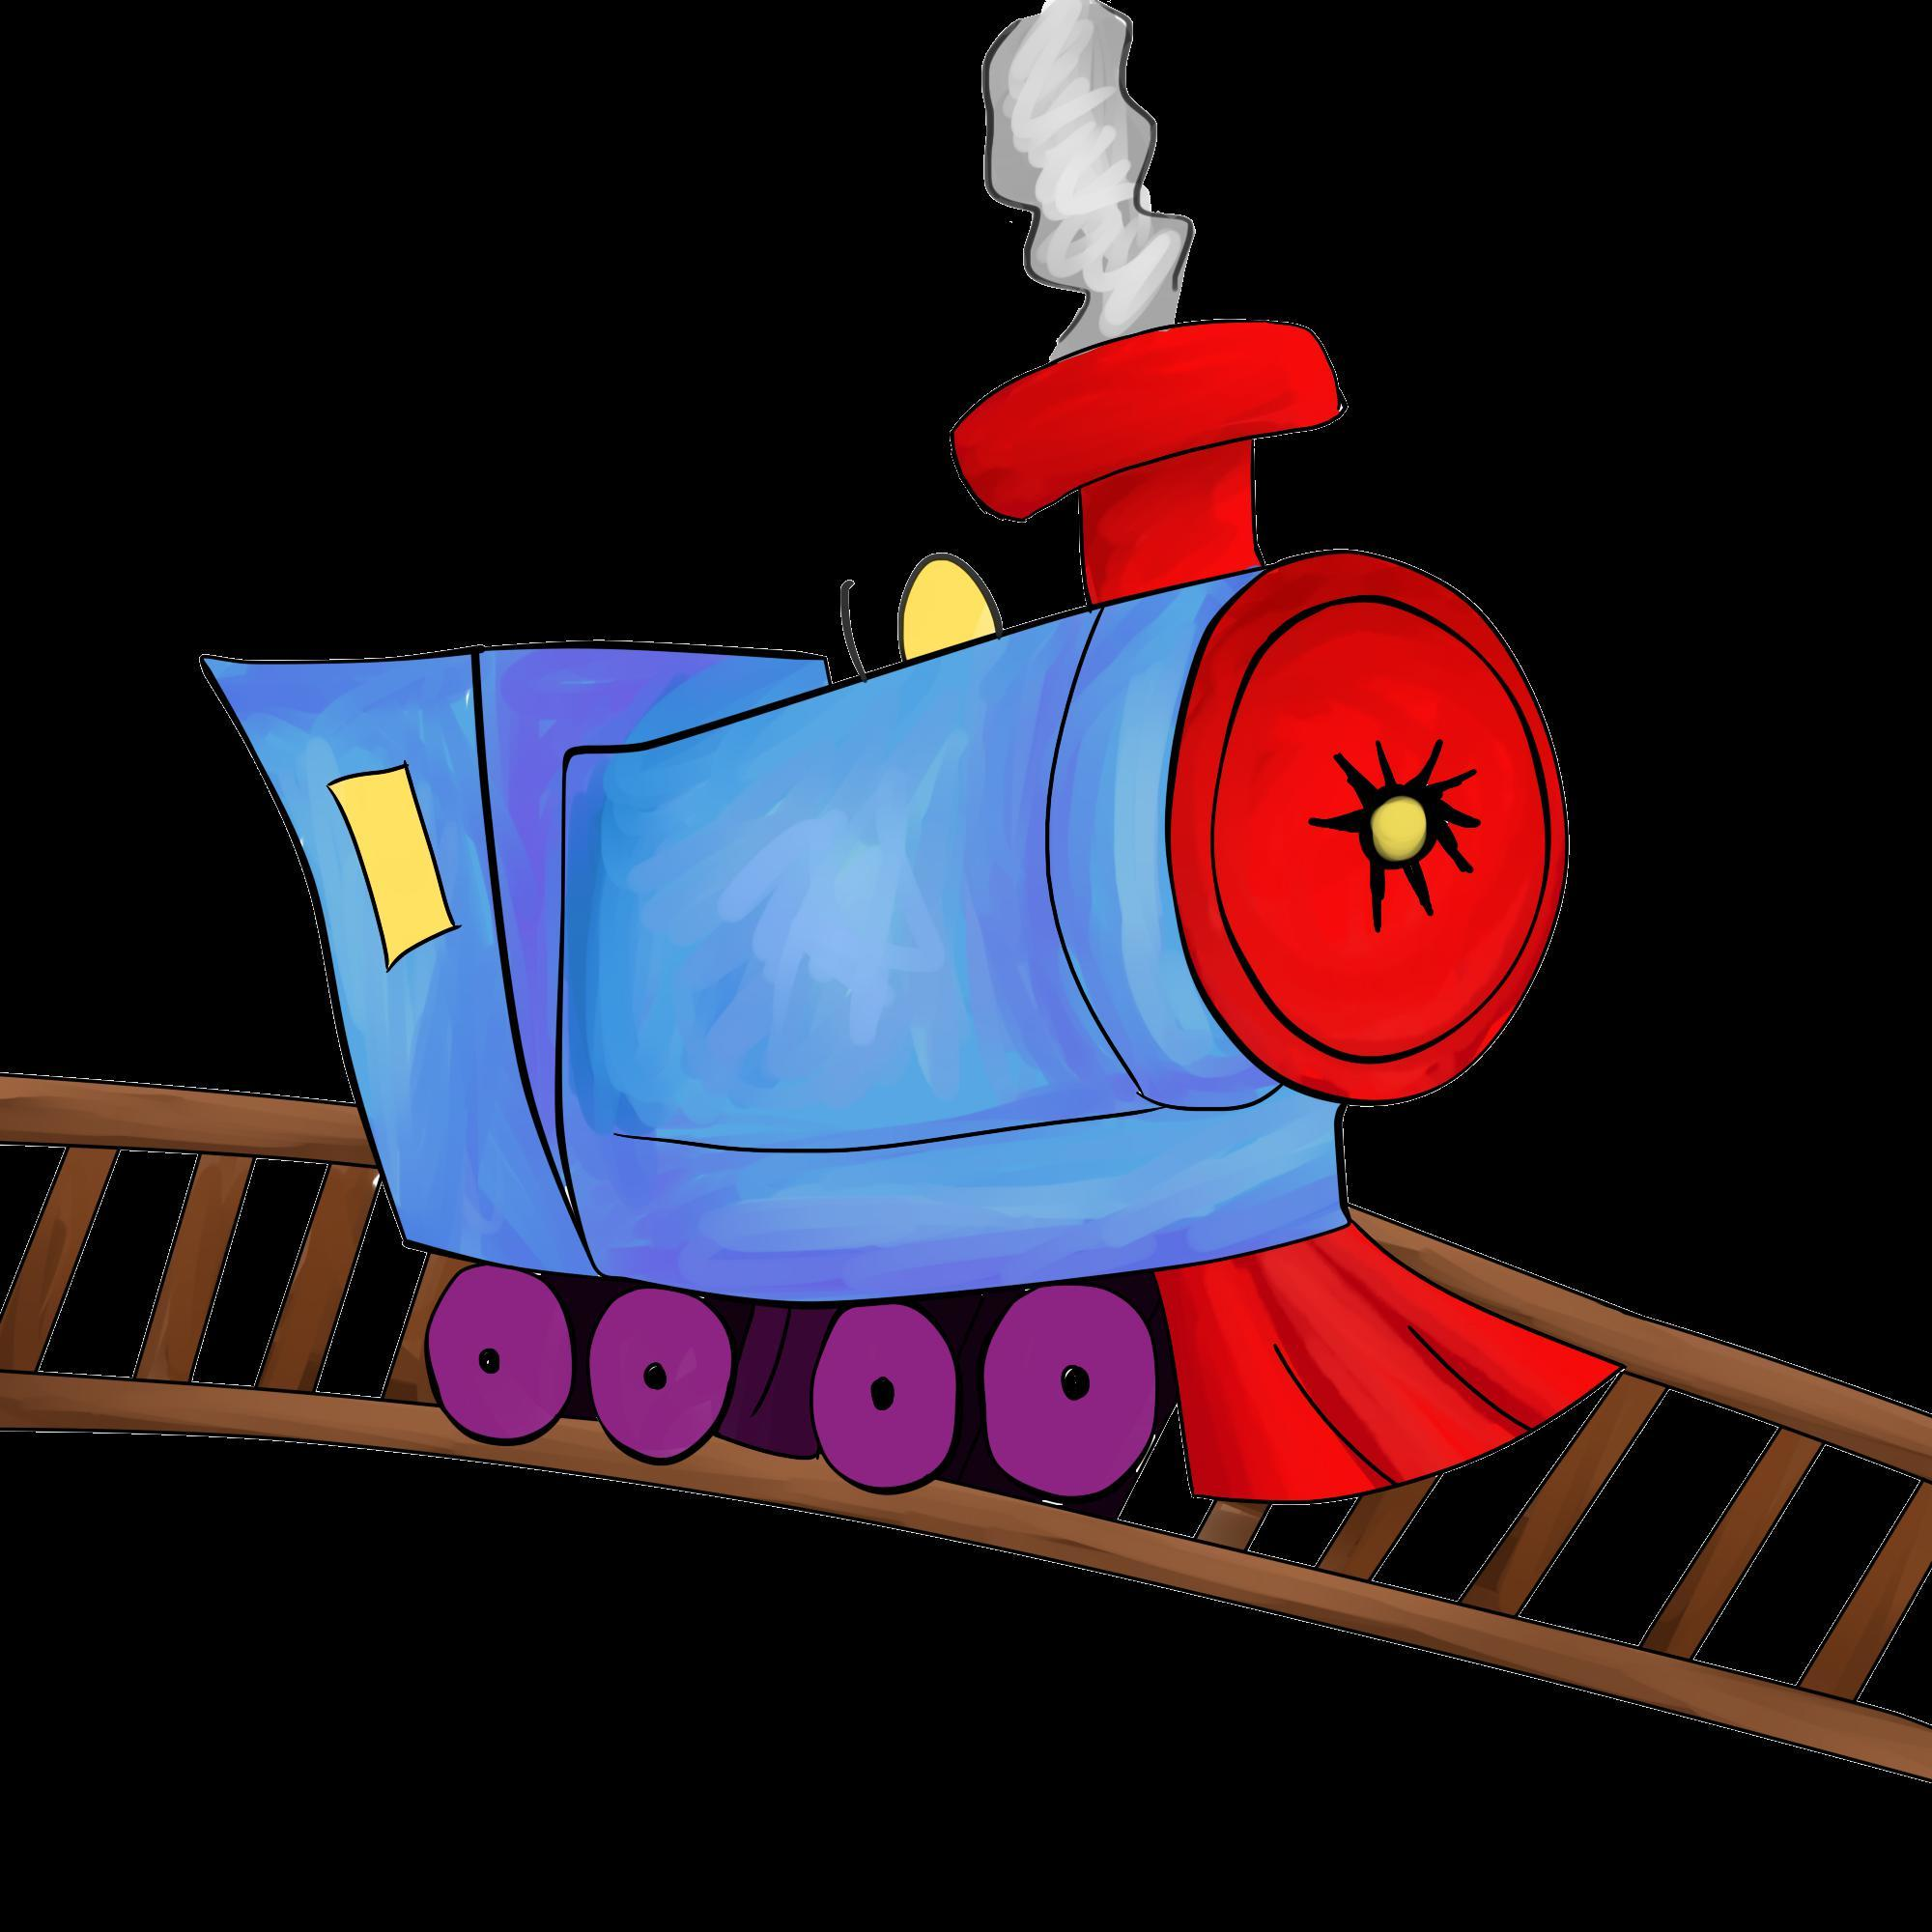train: (140, 301, 1624, 1543)
